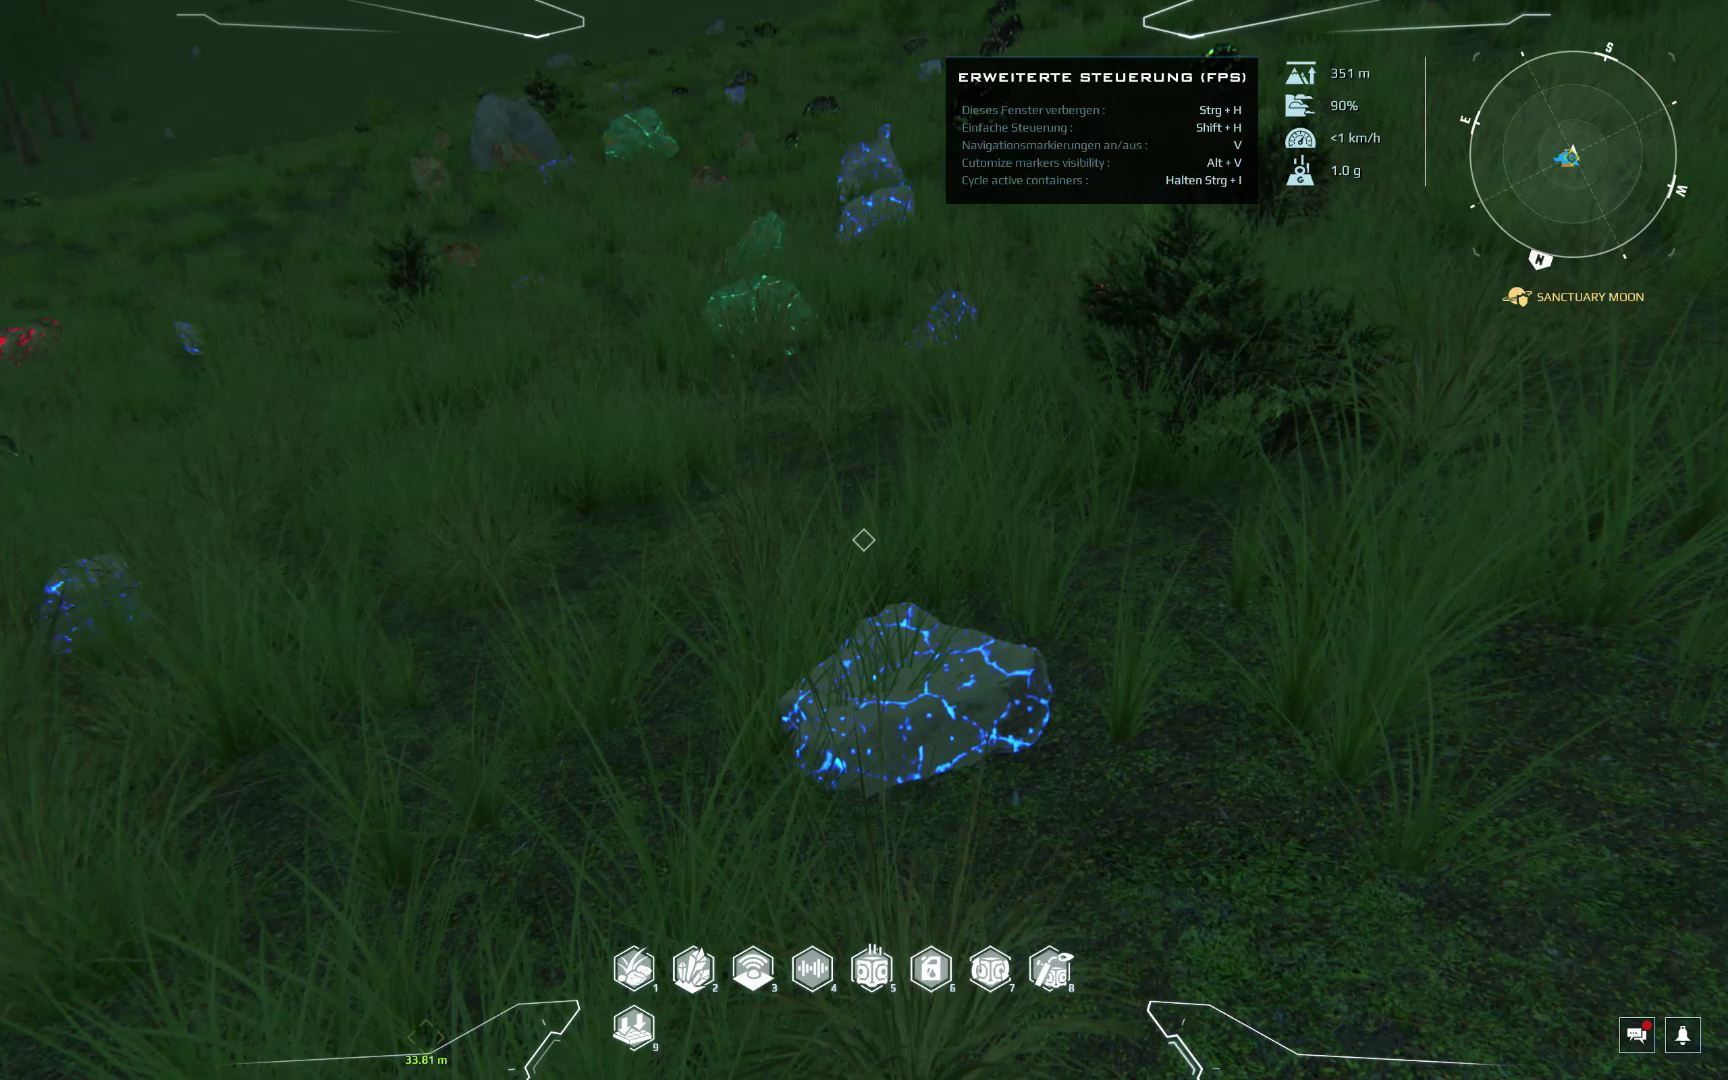Ore: (774, 600, 1056, 795), (698, 272, 829, 355), (29, 557, 142, 643), (834, 124, 909, 193), (595, 106, 679, 165), (836, 187, 916, 248), (720, 212, 792, 274), (906, 290, 980, 350), (1, 314, 65, 372), (165, 321, 211, 370), (688, 162, 730, 193), (437, 241, 483, 269), (800, 93, 840, 118)
